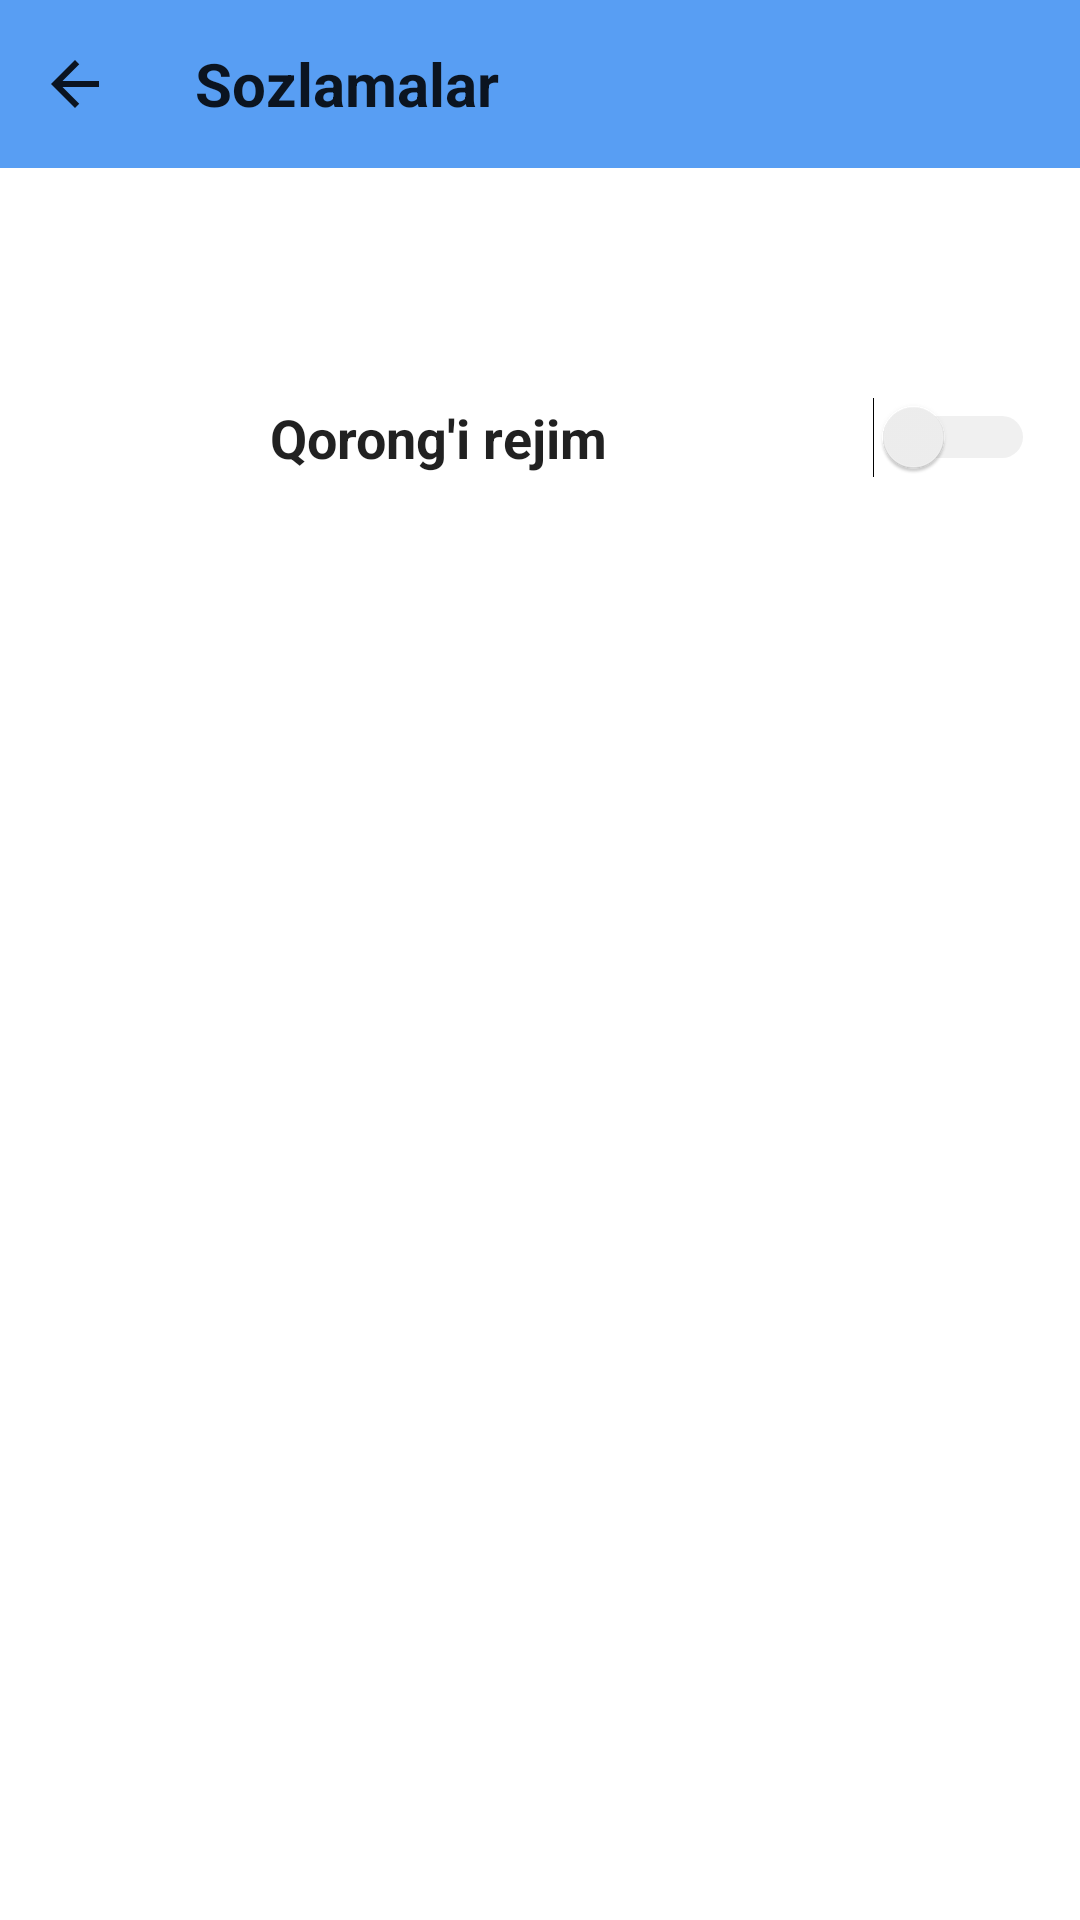

Where icons sit on this 1080 × 1920 app screen, as (x1, y1, x2, y2):
arrow back: (51, 60, 99, 108)
